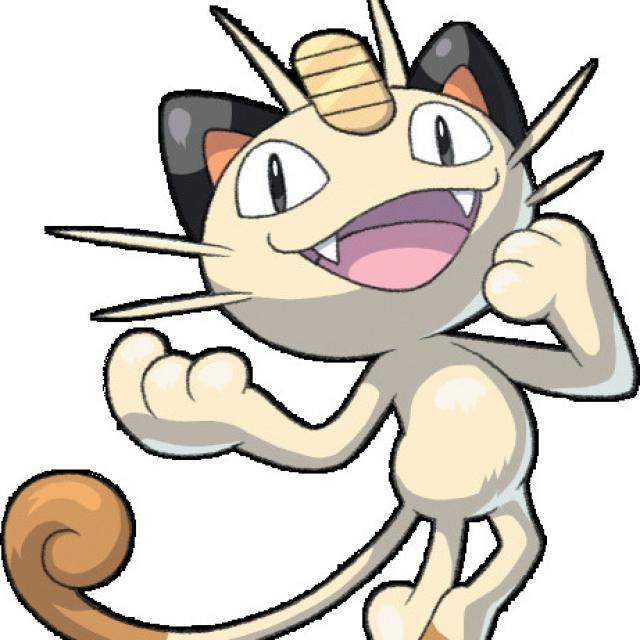Meowth: (188, 0, 555, 640)
